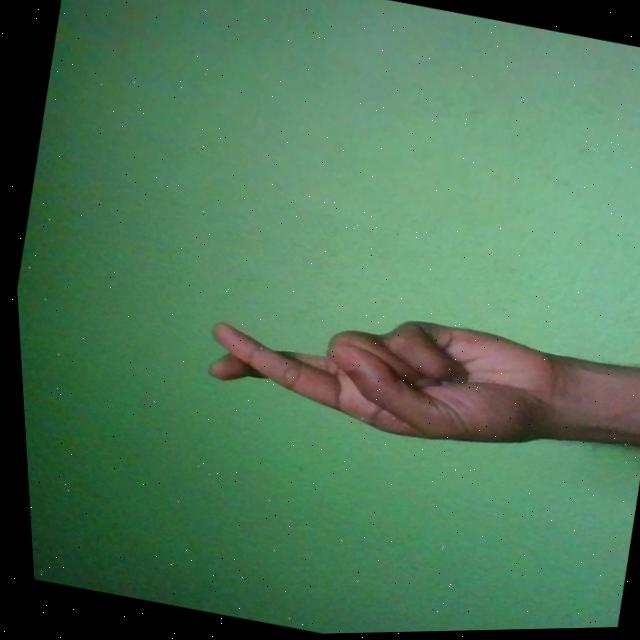Good Luck: (190, 275, 569, 471)
